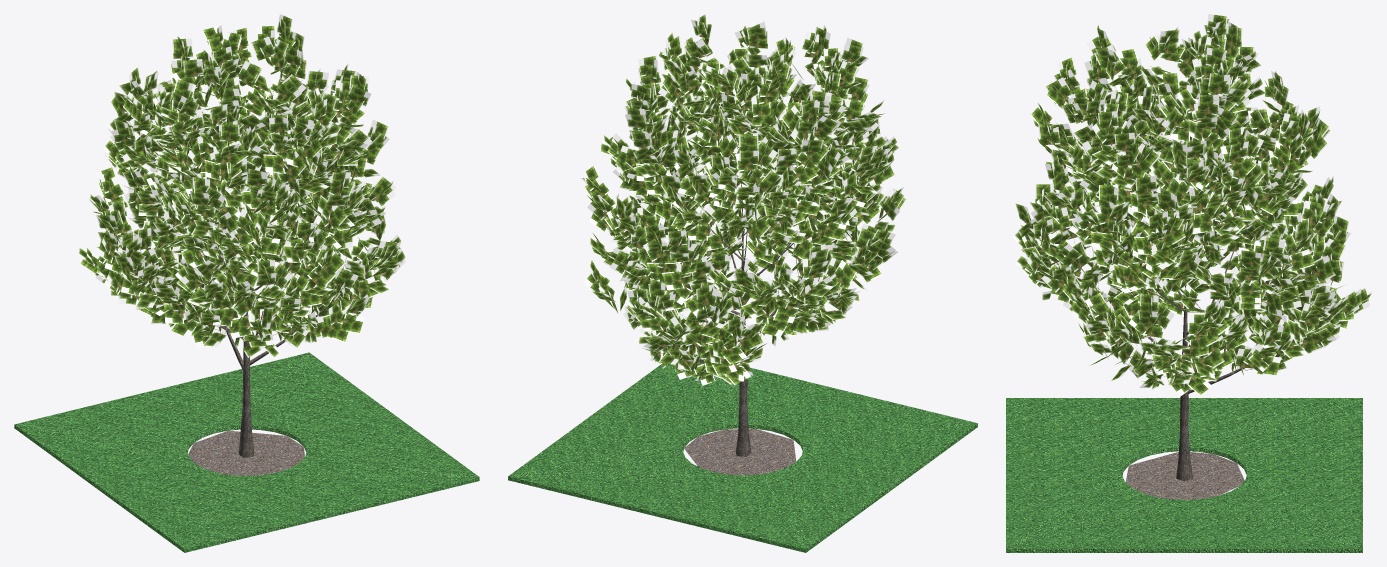
File: tree_maple.glb
3 renders of one model, left to right at view 1: azimuth 30°, elevation 25°; view 2: azimuth 150°, elevation 25°; view 3: azimuth 270°, elevation 25°, orthographic. The views are drawn at different scales.
Visible parts, largest first — view 1: Material2 (×3); view 2: Material2 (×3); view 3: Material2 (×3).
Boxes of the visible parts, bbox=[...] form: Material2 (×3): bbox=[14, 246, 479, 552]; Material2 (×3): bbox=[508, 230, 977, 552]; Material2 (×3): bbox=[1006, 285, 1362, 552].
Size of the model in its own units: 7.45 by 10 by 7.58.
4 materials, 4 textured.
